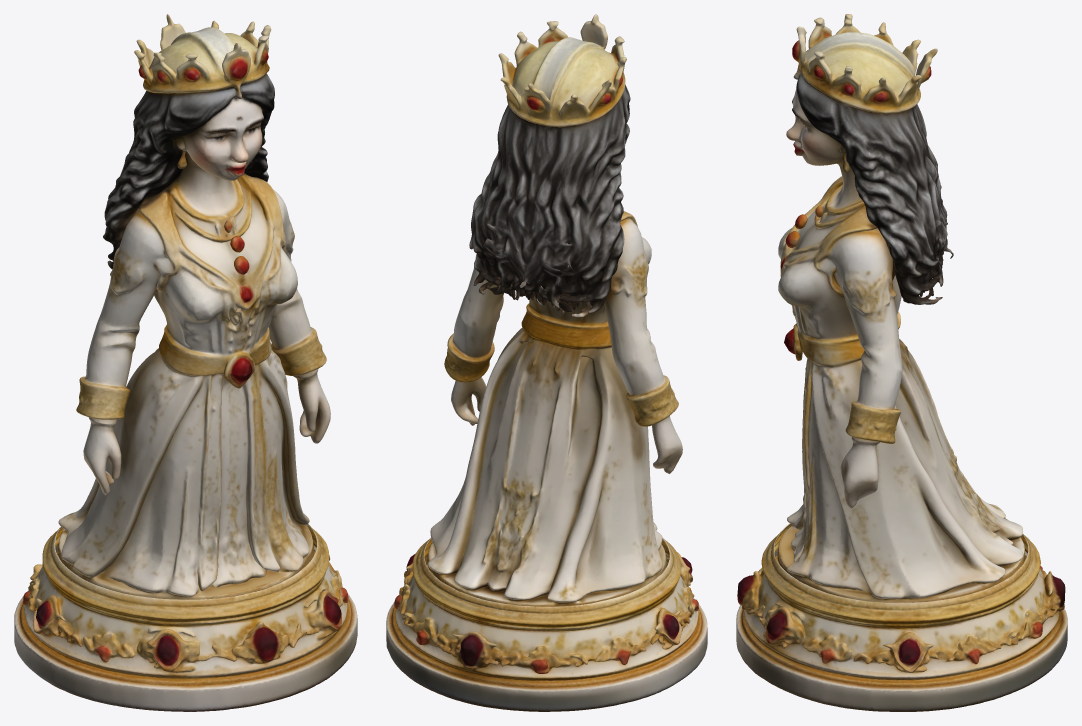
The model's file is sample_2026-11-06T111935.605.glb.
The picture shows the model from 3 angles, left to right: view 1: azimuth 30°, elevation 25°; view 2: azimuth 150°, elevation 25°; view 3: azimuth 270°, elevation 25°; orthographic projection. The views are drawn at different scales.
Visible parts, largest first — view 1: world; view 2: world; view 3: world.
Part boxes in pixels (bbox=[...]): world: bbox=[14, 14, 357, 711]; world: bbox=[386, 14, 707, 711]; world: bbox=[736, 14, 1067, 711].
Bounding box in the file's own units: 0.4841 × 0.9911 × 0.4823.
Materials: 1 (1 with a texture image).
